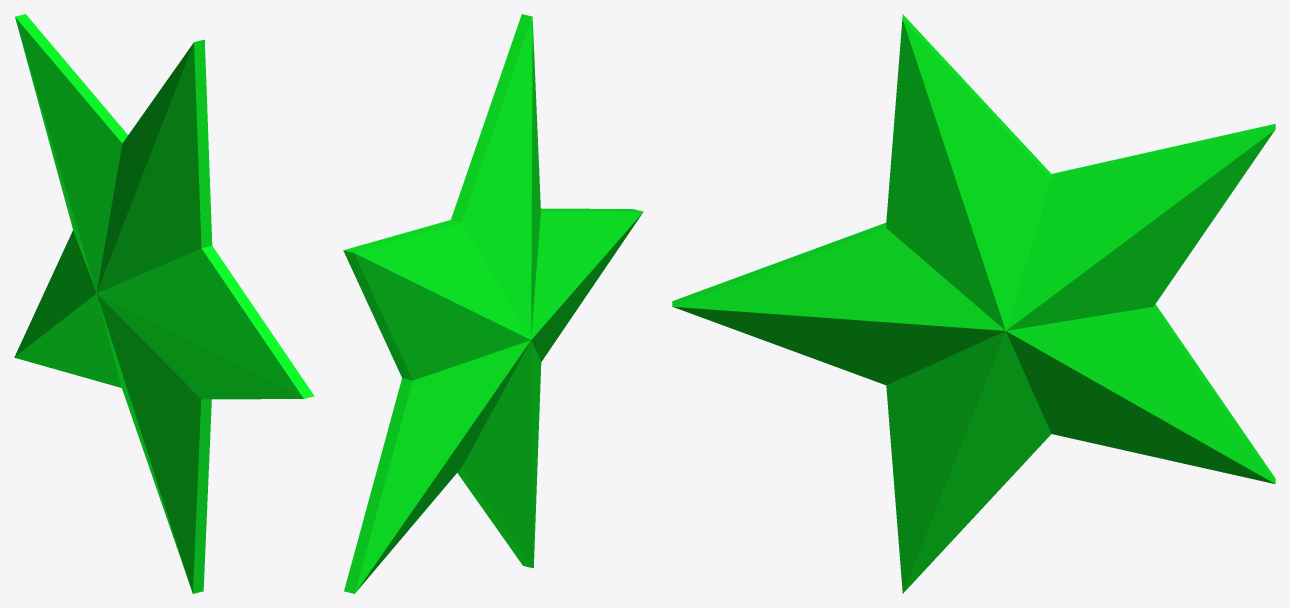
The model's file is star_green.glb.
3 renders of one model, left to right at view 1: azimuth 30°, elevation 25°; view 2: azimuth 150°, elevation 25°; view 3: azimuth 270°, elevation 25°, orthographic. The views are drawn at different scales.
Visible parts, largest first — view 1: Star; view 2: Star; view 3: Star.
Part boxes in pixels (<box>): Star: <box>14,14,314,593</box>; Star: <box>343,14,643,593</box>; Star: <box>672,14,1275,593</box>.
Size of the model in its own units: 0.917 by 4.58 by 4.35.
